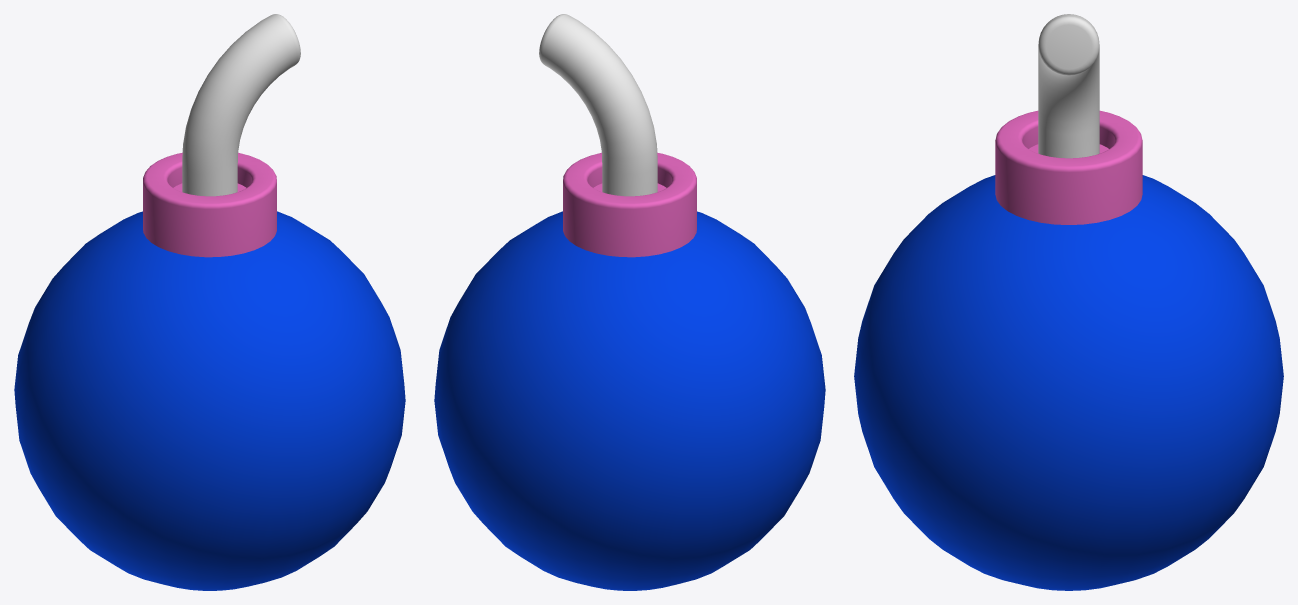
The model's file is Bomb.fbx.
3 renders of one model, left to right at view 1: azimuth 30°, elevation 25°; view 2: azimuth 150°, elevation 25°; view 3: azimuth 270°, elevation 25°, orthographic. The views are drawn at different scales.
Parts seen in each view (by area): view 1: Bomb; view 2: Bomb; view 3: Bomb.
Boxes of the visible parts, x1,y1,x2,y2 form: Bomb: [14, 14, 405, 590]; Bomb: [434, 14, 825, 590]; Bomb: [854, 14, 1283, 590].
Size of the model in its own units: 0.745 by 1.13 by 0.745.
